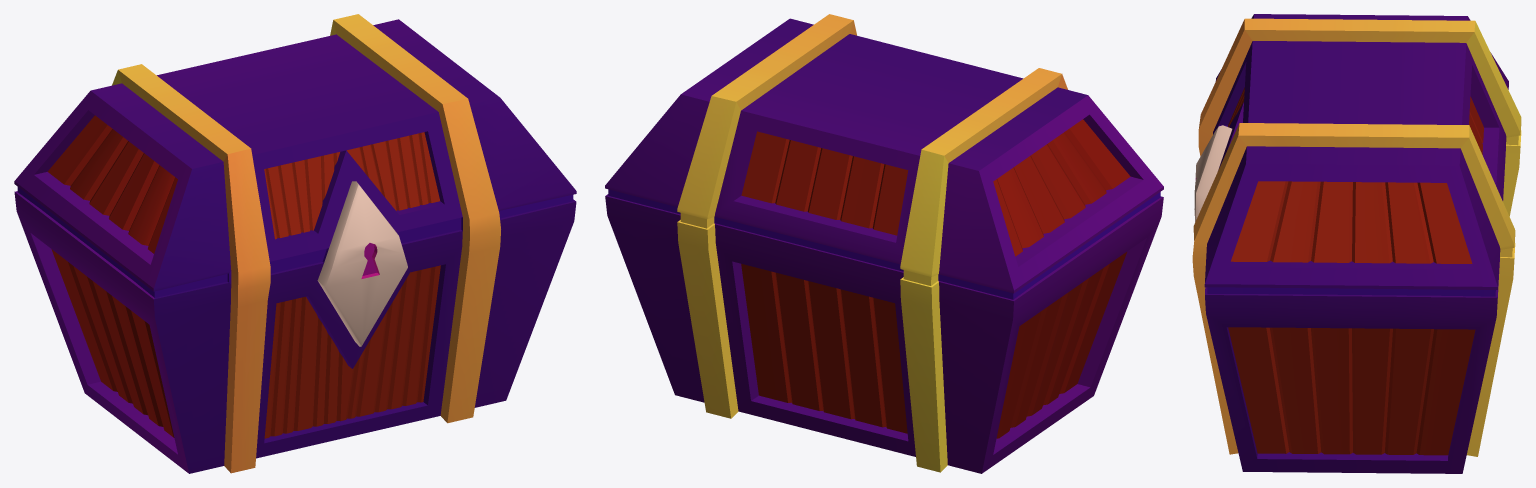
Rendered from Chest.fbx.
The picture shows the model from 3 angles, left to right: view 1: azimuth 30°, elevation 25°; view 2: azimuth 150°, elevation 25°; view 3: azimuth 270°, elevation 25°; orthographic projection.
Parts seen in each view (by area): view 1: Purple chest.004; view 2: Purple chest.004; view 3: Purple chest.004.
Part boxes in pixels (left/top/right/bottom): Purple chest.004: left=14, top=14, right=576, bottom=473; Purple chest.004: left=605, top=14, right=1163, bottom=473; Purple chest.004: left=1192, top=14, right=1521, bottom=473.
Size of the model in its own units: 149 by 106 by 99.39.
Materials: 1 (1 with a texture image).
